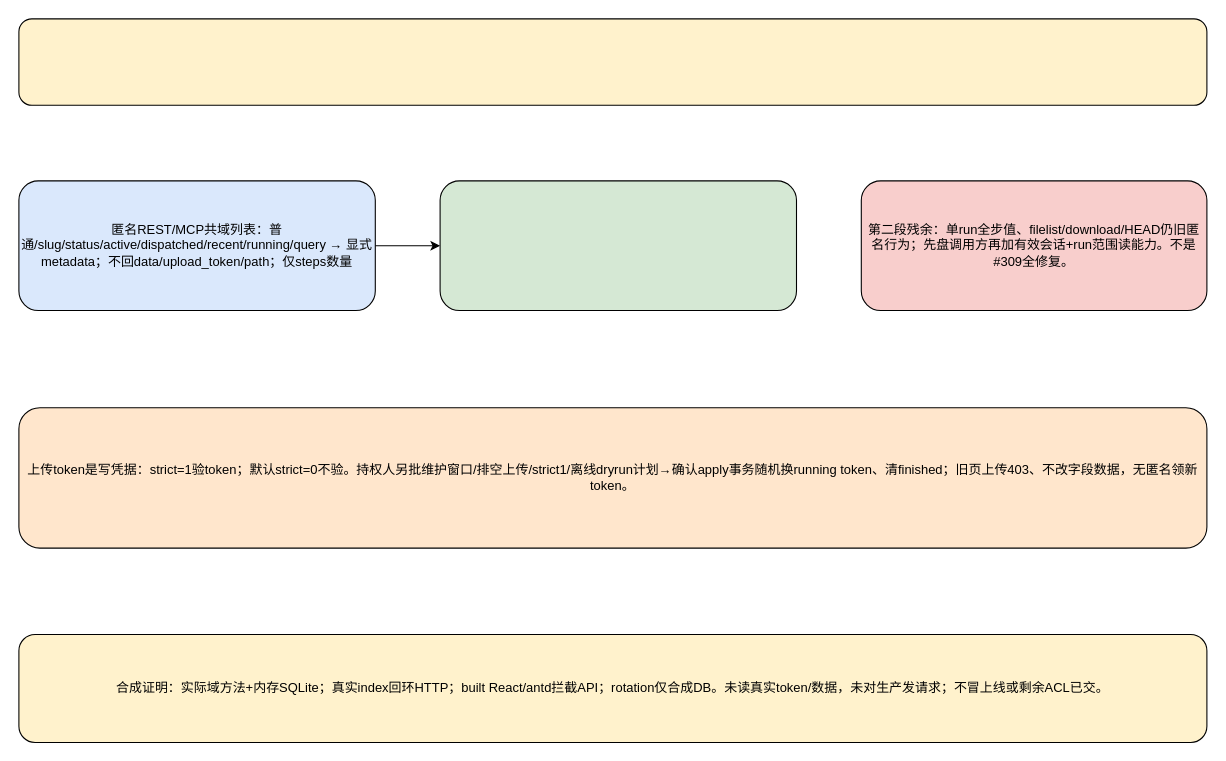
Image size: 1226x761. Some labels were removed from this diagram. The box of each missing label's shape, as (x1, y1, x2, y2) in pixels:
main a13f基线独立PR候选；未合并/未部署/未轮换真实token。测试机同代码同风险；生产未探测。: (18, 18, 1207, 105)
SOP历史列表：metadata+steps，无私有字段展开，不补fetch单run；查询响应A2A status/note不重发写token: (439, 180, 796, 310)
